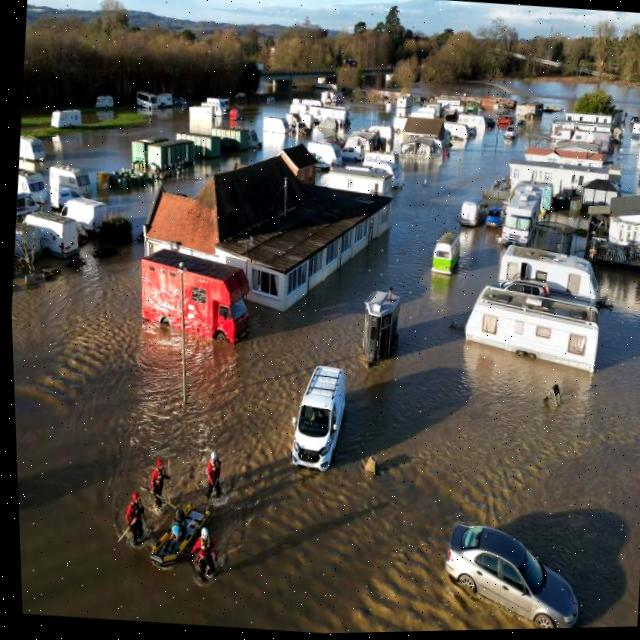rescuer: (188, 522, 228, 589), (198, 445, 235, 511), (140, 445, 179, 503), (117, 490, 151, 553)
